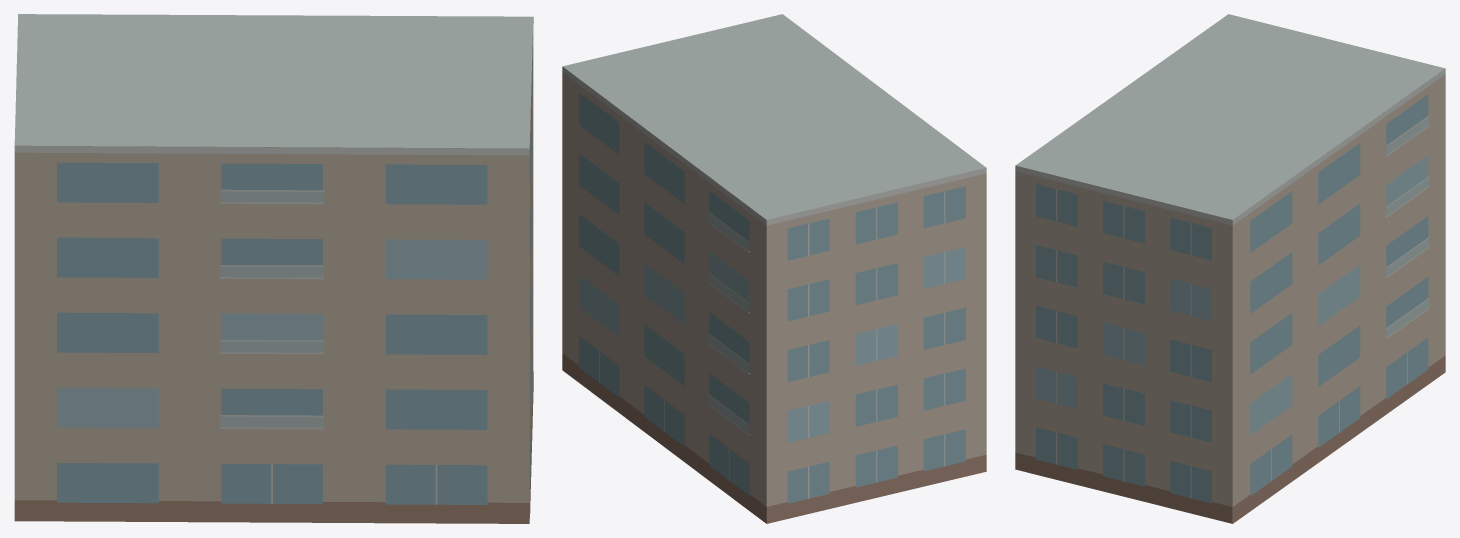
Rendered from survey-upis-32832801.glb.
3 views of the same model, side by side, from view 1: azimuth 30°, elevation 25°; view 2: azimuth 150°, elevation 25°; view 3: azimuth 270°, elevation 25° (orthographic). The views are drawn at different scales.
Parts seen in each view (by area): view 1: survey-upis-32832801.tmp; view 2: survey-upis-32832801.tmp; view 3: survey-upis-32832801.tmp.
Boxes of the visible parts, bbox=[...] form: survey-upis-32832801.tmp: bbox=[14, 14, 533, 523]; survey-upis-32832801.tmp: bbox=[562, 14, 986, 523]; survey-upis-32832801.tmp: bbox=[1015, 14, 1445, 523].
Bounding box in the file's own units: 19.05 × 13.1 × 16.81.
